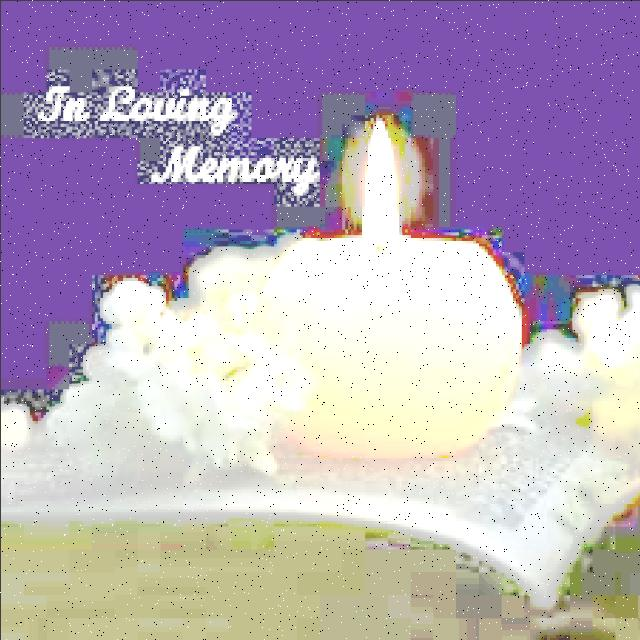api: (357, 110, 408, 250)
